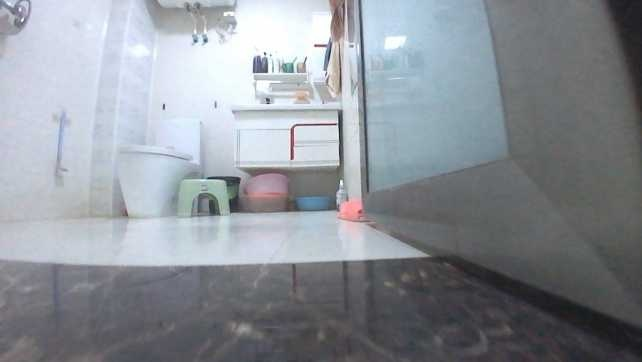plastic_stool: (175, 177, 232, 215)
toilet: (113, 116, 205, 220)
washstand: (230, 100, 343, 172)
